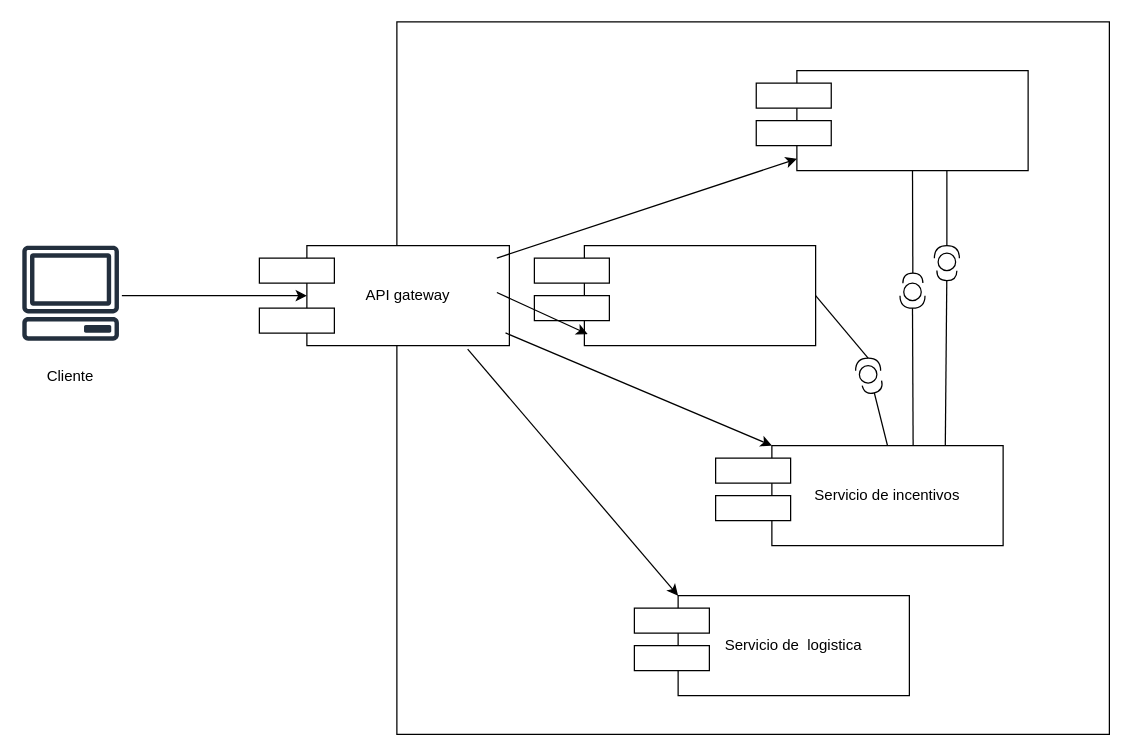
Image size: 1131x756. Some labels were removed from this diagram. The box of each missing label's shape, as (x1, y1, x2, y2) in pixels:
Servicio de donaciones: (583, 244, 816, 346)
Servicio de donadores y entidades: (796, 69, 1028, 171)
